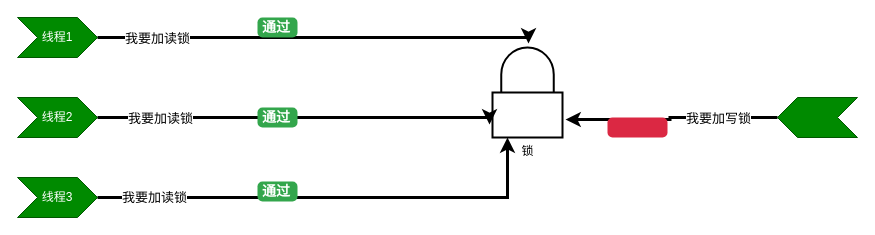
The diagram is 875 pixels wide and 235 high, and some of its shapes have lost their labels. Here are the shapes that lost their labels. From the top down, the centre of each, then its label:
point 637,127: 不通过
point 817,117: 线程4
